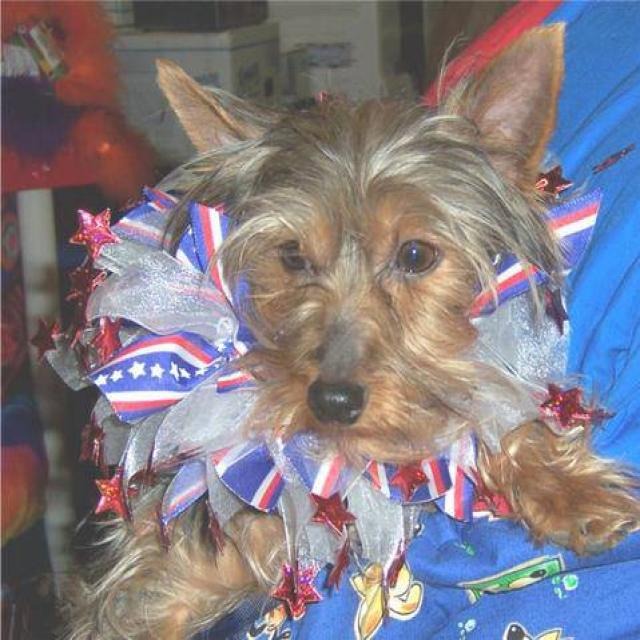dog: (46, 20, 638, 639)
